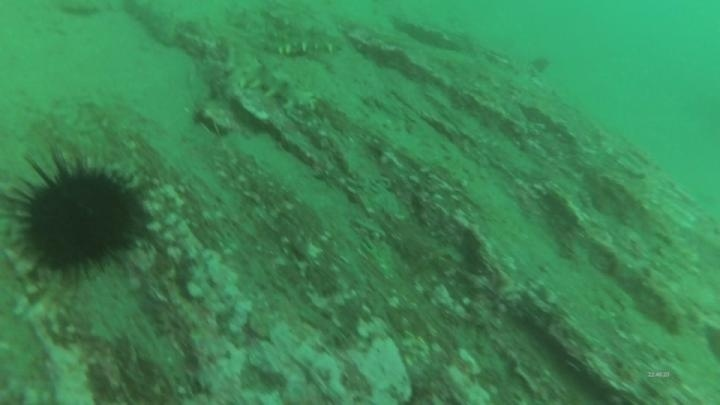echinus: (3, 146, 153, 287)
holothurian: (227, 56, 321, 118), (257, 21, 349, 60)
